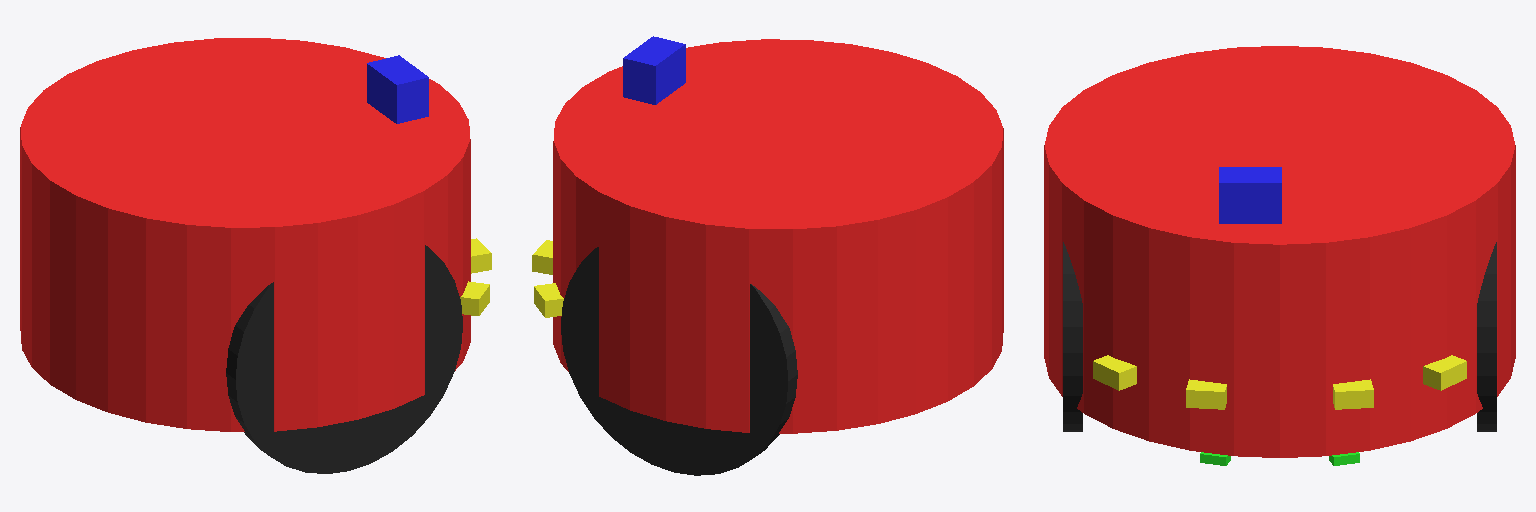
The robot description file, URDF, robot "robot":
<?xml version="1.0"?>
<robot name="robot">
  <!-- The base cylinder, make it red and transparent so one could see inside -->
  <link name="base_link">
    <visual>
      <geometry>
        <cylinder length="0.06" radius="0.06" />
      </geometry>

      <origin xyz="0 0 0.047" />

      <!-- When the color is defined with a name it can be referenced by another element without the numbers -->
      <material name="red_transparent">
        <color rgba="1.0 0.2 0.2 0.2" />
      </material>
    </visual>
  </link>

  <!-- Define the left and right wheels -->
  <link name="wheel_left">
    <visual>
      <geometry>
        <cylinder length="0.005" radius="0.035" />
      </geometry>

      <origin rpy="1.57075 0 0" />

      <material name="black">
        <color rgba="0.2 0.2 0.2 1" />
      </material>
    </visual>
  </link>

  <link name="wheel_right">
    <visual>
      <geometry>
        <cylinder length="0.005" radius="0.035" />
      </geometry>

      <origin rpy="1.57075 0 0" />

      <material name="black" />
    </visual>
  </link>

  <!-- Define the joints connecting the wheels to the base cylinder -->
  <joint name="joint_left" type="continuous">
    <parent link="base_link" />
    <child link="wheel_left" />
    <axis xyz="0 -1 0" />
    <origin xyz="0.0 0.0528 0.035" />
  </joint>

  <joint name="joint_right" type="continuous">
    <parent link="base_link" />
    <child link="wheel_right" />
    <axis xyz="0 -1 0" />
    <origin xyz="0.0 -0.0528 0.035" />
  </joint>

  <!-- Define the linear camera instance -->
  <link name="linear_camera">
    <visual>
      <geometry>
        <box size="0.01 0.016 0.016" />
      </geometry>

      <material name="blue">
        <color rgba="0.2 0.2 1.0 1" />
      </material>
    </visual>
  </link>

  <!-- Position the linear camera -->
  <joint name="joint_camera" type="fixed">
    <parent link="base_link" />
    <child link="linear_camera" />
    <!-- The cube center represents the position of the sensor here, in V-REP the sensor is at the edge of the cube, this is purely an aesthetical issue -->
    <origin xyz="0.0425 -0.0075 0.0805" />
  </joint>

  <!-- Define the front infra-red sensors -->
  <link name="ir_left">
    <visual>
      <geometry>
        <box size="0.007 0.010 0.005" />
      </geometry>

      <origin rpy="0 0 0.829" />

      <material name="yellow">
        <color rgba="1.0 1.0 0.2 1" />
      </material>
    </visual>
  </link>

  <link name="ir_left_center">
    <visual>
      <geometry>
        <box size="0.007 0.010 0.005" />
      </geometry>

      <origin rpy="0 0 0.1265" />

      <material name="yellow" />
    </visual>
  </link>

  <link name="ir_right_center">
    <visual>
      <geometry>
        <box size="0.007 0.010 0.005" />
      </geometry>

      <origin rpy="0 0 -0.1265" />

      <material name="yellow" />
    </visual>
  </link>

  <link name="ir_right">
    <visual>
      <geometry>
        <box size="0.007 0.010 0.005" />
      </geometry>

      <origin rpy="0 0 -0.829" />

      <material name="yellow" />
    </visual>
  </link>

  <!-- Position the front infra-red sensors -->
  <joint name="joint_ir_left" type="fixed">
    <parent link="base_link" />
    <child link="ir_left" />
    <origin xyz="0.04554 0.04173 0.0345" />
  </joint>

  <joint name="joint_ir_left_center" type="fixed">
    <parent link="base_link" />
    <child link="ir_left_center" />
    <origin xyz="0.05891 0.01857 0.0345" />
  </joint>

  <joint name="joint_ir_right_center" type="fixed">
    <parent link="base_link" />
    <child link="ir_right_center" />
    <origin xyz="0.05891 -0.01857 0.0345" />
  </joint>

  <joint name="joint_ir_right" type="fixed">
    <parent link="base_link" />
    <child link="ir_right" />
    <origin xyz="0.04554 -0.04173 0.0345" />
  </joint>

  <!-- Define the infra-red sensors under the robot -->
  <link name="ir_left_under">
    <visual>
      <geometry>
        <box size="0.004 0.007 0.0025" />
      </geometry>

      <origin rpy="0 0 0.3054" />

      <material name="green">
        <color rgba="0.2 1.0 0.2 1" />
      </material>
    </visual>
  </link>

  <link name="ir_right_under">
    <visual>
      <geometry>
        <box size="0.004 0.007 0.0025" />
      </geometry>

      <origin rpy="0 0 -0.3054" />

      <material name="green" />
    </visual>
  </link>

  <!-- Position the infra-red sensors under the robot -->
  <joint name="joint_ir_left_under" type="fixed">
    <parent link="base_link" />
    <child link="ir_left_under" />
    <origin xyz="0.052140 0.016440 0.0137" />
  </joint>

  <joint name="joint_ir_right_under" type="fixed">
    <parent link="base_link" />
    <child link="ir_right_under" />
    <origin xyz="0.052140 -0.016440 0.0137" />
  </joint>

  <!-- Define the scanner representing the ir sensors -->
  <link name="ir_scan">
    <visual>
      <geometry>
        <cylinder length="0.006" radius="0.006" />
      </geometry>

      <material name="green" />
    </visual>
  </link>

  <joint name="joint_ir_scan" type="fixed">
    <parent link="base_link" />
    <child link="ir_scan" />
    <origin xyz="0.0 0.0 0.0345" />
  </joint>

</robot>

--- Render facts (derived) ---
The picture shows the robot from 3 angles, left to right: view 1: azimuth 30°, elevation 25°; view 2: azimuth 150°, elevation 25°; view 3: azimuth 270°, elevation 25°; orthographic projection.
Robot: robot — 11 links, 10 joints (2 continuous, 8 fixed); root link base_link; default pose: every joint at zero.
Links seen in each view (by area): view 1: base_link, wheel_right, linear_camera, ir_right, ir_right_center; view 2: base_link, wheel_left, linear_camera, ir_left, ir_left_center; view 3: base_link, linear_camera, wheel_left, wheel_right, ir_left, ir_right, ir_left_center, ir_right_center.
Link boxes in pixels (box(x1,y1,x2,y2)): base_link: box(20, 38, 470, 431); wheel_right: box(226, 245, 462, 473); linear_camera: box(367, 55, 428, 123); ir_right: box(460, 281, 489, 315); ir_right_center: box(471, 238, 491, 273); base_link: box(553, 39, 1003, 433); wheel_left: box(561, 247, 797, 475); linear_camera: box(623, 36, 685, 104); ir_left: box(534, 283, 563, 317); ir_left_center: box(532, 240, 552, 274); base_link: box(1044, 46, 1515, 457); linear_camera: box(1219, 167, 1281, 223); wheel_left: box(1477, 242, 1496, 431); wheel_right: box(1063, 242, 1082, 431); ir_left: box(1423, 355, 1466, 390); ir_right: box(1093, 355, 1136, 390); ir_left_center: box(1333, 379, 1373, 409); ir_right_center: box(1186, 379, 1226, 409).
Size in the robot's own frame: 0.123 by 0.12 by 0.0885 metres.
Geometry: primitives only (box / cylinder / sphere), no mesh files.